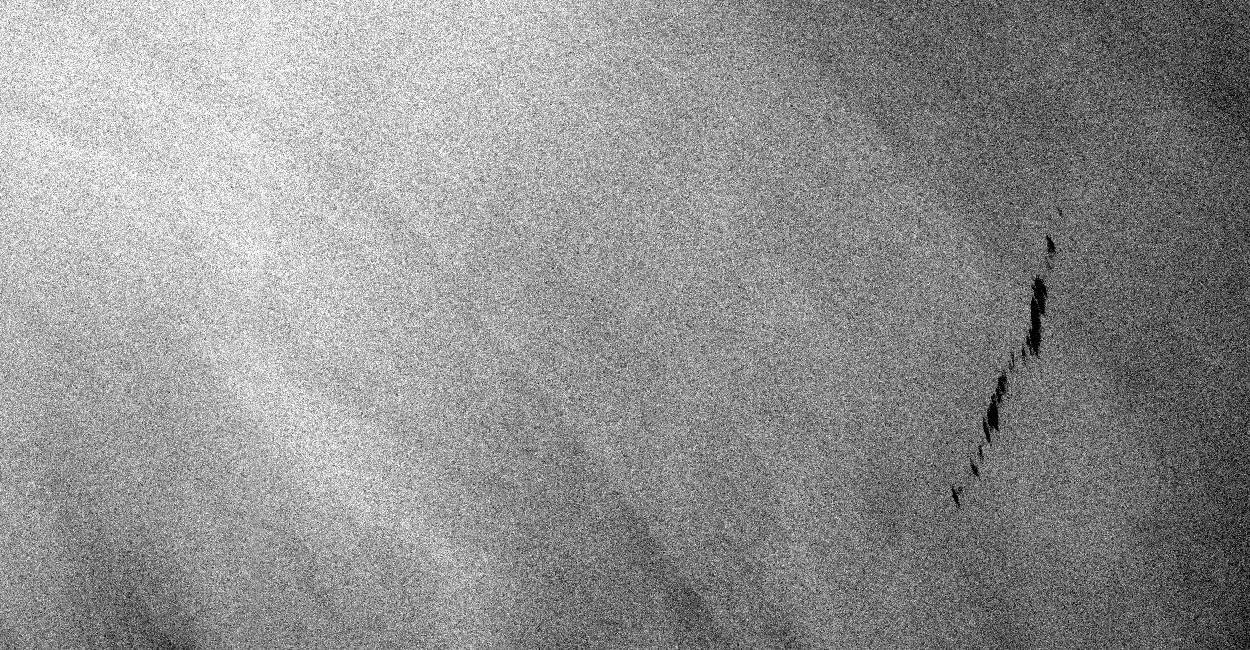Oil Spill: (974, 348, 1016, 462), (1020, 272, 1050, 362), (1044, 234, 1056, 274), (950, 484, 962, 508), (968, 456, 980, 478)
